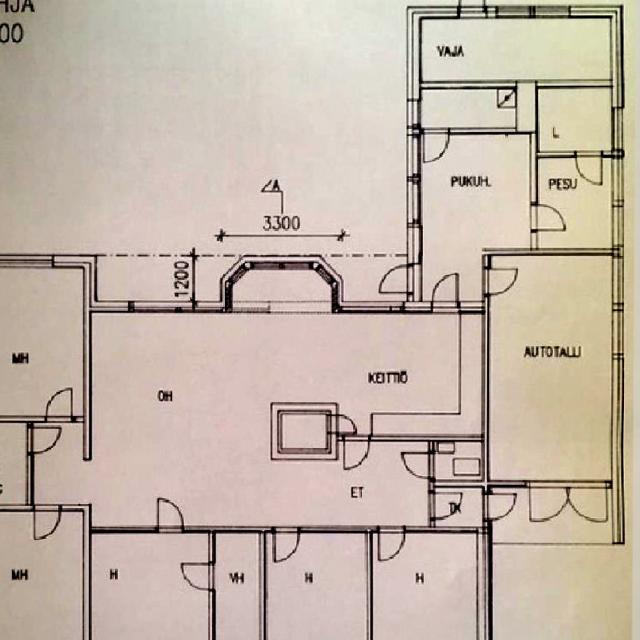door: (530, 481, 569, 527), (569, 481, 607, 527), (378, 264, 421, 293), (431, 272, 458, 312), (575, 150, 603, 186), (378, 526, 405, 560), (482, 267, 515, 294), (46, 388, 72, 422), (423, 127, 449, 161), (530, 204, 564, 230), (35, 503, 60, 538), (274, 526, 300, 559), (344, 435, 370, 468), (158, 500, 184, 532), (27, 427, 58, 453), (429, 493, 460, 518), (185, 564, 214, 589), (406, 453, 436, 477), (482, 494, 511, 518), (328, 414, 356, 434), (457, 0, 484, 18)
